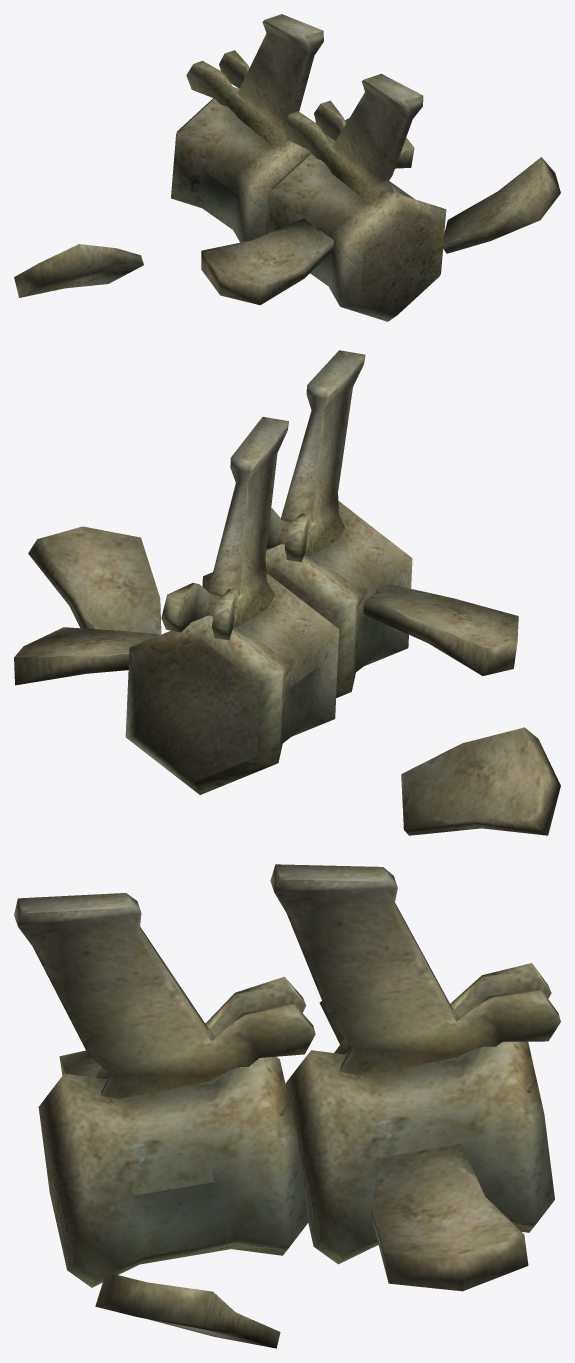
Rendered from bone_whale_piece_ver03.fbx.
3 renders of one model, top to bottom at view 1: azimuth 30°, elevation 25°; view 2: azimuth 150°, elevation 25°; view 3: azimuth 270°, elevation 25°, orthographic. The views are drawn at different scales.
Visible parts, largest first — view 1: bone_whale_piece_ver03; view 2: bone_whale_piece_ver03; view 3: bone_whale_piece_ver03.
Boxes of the visible parts, x1=… form: bone_whale_piece_ver03: x1=14, y1=14, x2=560, y2=321; bone_whale_piece_ver03: x1=14, y1=350, x2=560, y2=835; bone_whale_piece_ver03: x1=14, y1=864, x2=560, y2=1348.
Bounding box in the file's own units: 8.3 × 4.21 × 5.16.
